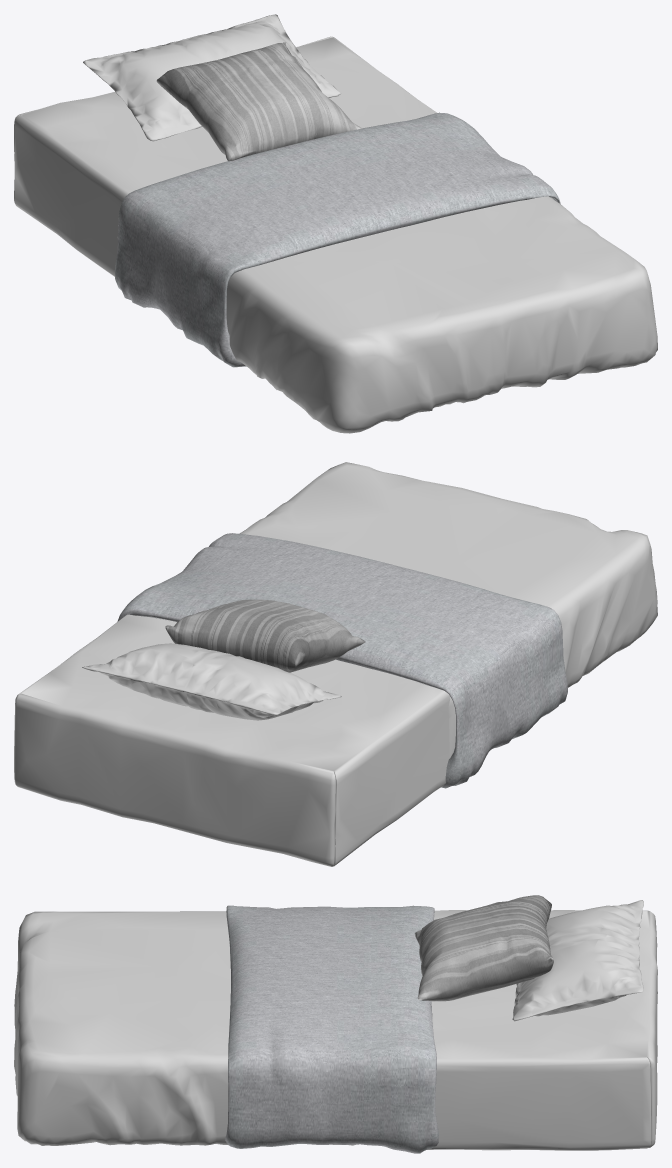
The model's file is Bed_set_05.glb.
3 views of the same model, one above another, from view 1: azimuth 30°, elevation 25°; view 2: azimuth 150°, elevation 25°; view 3: azimuth 270°, elevation 25° (orthographic). The views are drawn at different scales.
Parts seen in each view (by area): view 1: BP_Bed_set_05; view 2: BP_Bed_set_05; view 3: BP_Bed_set_05.
Part boxes in pixels (bbox=[...]): BP_Bed_set_05: bbox=[14, 14, 657, 433]; BP_Bed_set_05: bbox=[14, 462, 657, 866]; BP_Bed_set_05: bbox=[14, 895, 657, 1153].
Bounding box in the file's own units: 1.24 × 0.5805 × 2.05.
3 materials, 2 textured.
